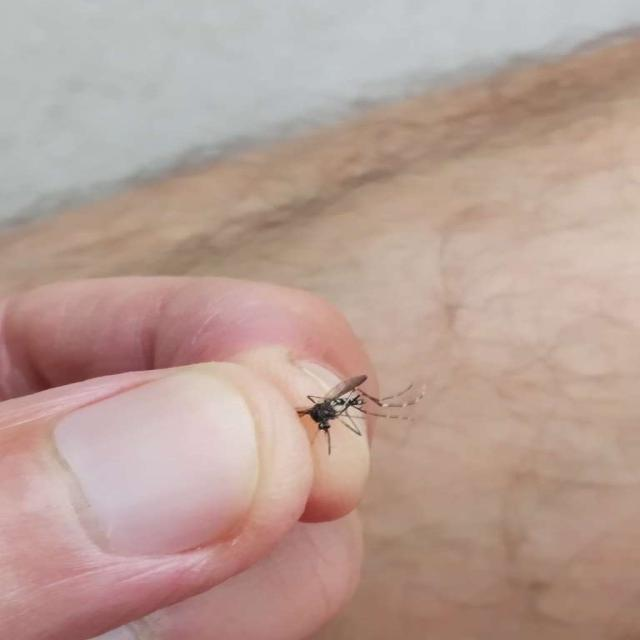albopictus: (290, 357, 420, 457)
